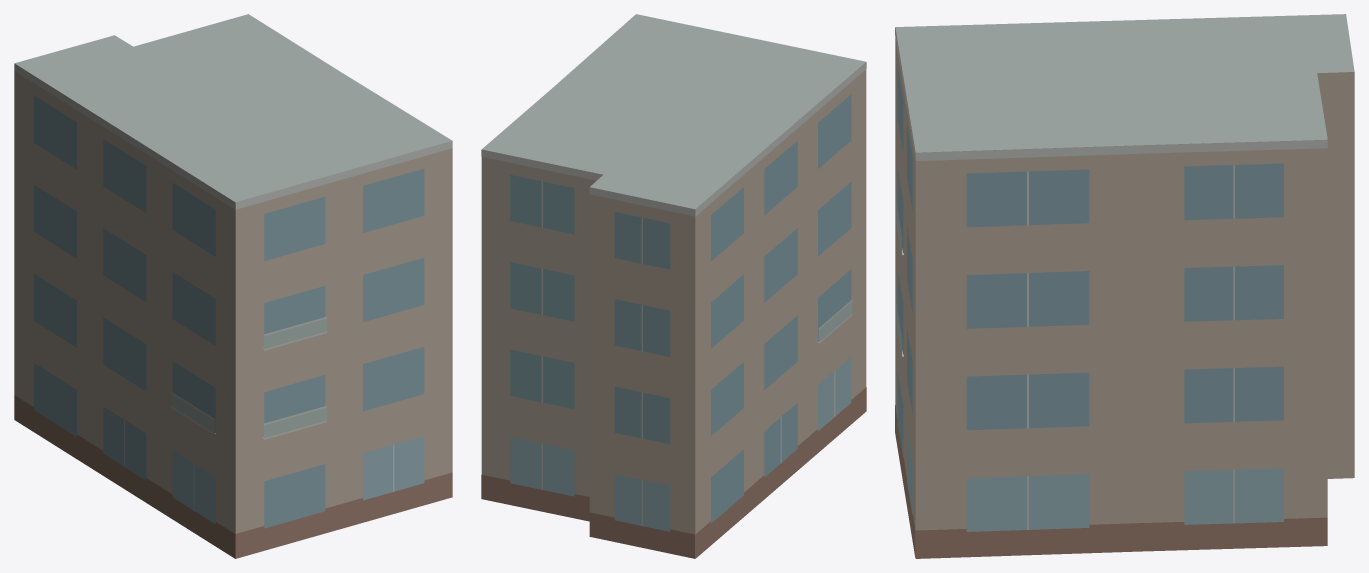
Rendered from survey-upis-32705874.glb.
3 renders of one model, left to right at view 1: azimuth 30°, elevation 25°; view 2: azimuth 150°, elevation 25°; view 3: azimuth 270°, elevation 25°, orthographic. The views are drawn at different scales.
Visible parts, largest first — view 1: survey-upis-32705874.tmp; view 2: survey-upis-32705874.tmp; view 3: survey-upis-32705874.tmp.
Part boxes in pixels (box(x1,y1,x2,y2)): survey-upis-32705874.tmp: box(14, 14, 452, 558); survey-upis-32705874.tmp: box(481, 14, 866, 558); survey-upis-32705874.tmp: box(895, 14, 1354, 558).
Bounding box in the file's own units: 8.54 × 11.65 × 11.95.
